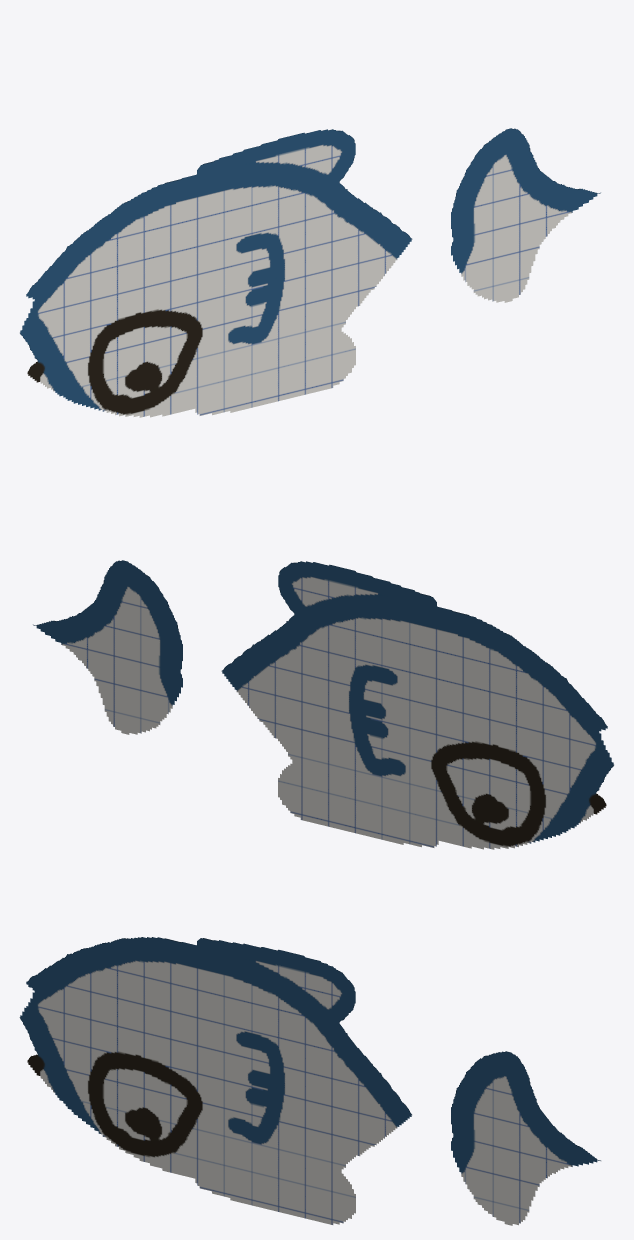
File: barry.glb
3 views of the same model, one above another, from view 1: azimuth 30°, elevation 25°; view 2: azimuth 150°, elevation 25°; view 3: azimuth 330°, elevation 25° (orthographic).
Visible parts, largest first — view 1: cutout; view 2: cutout; view 3: cutout.
Part boxes in pixels (x1=…): cutout: x1=20, y1=128, x2=600, y2=417; cutout: x1=33, y1=560, x2=613, y2=849; cutout: x1=19, y1=937, x2=600, y2=1225.
Size of the model in its own units: 4.81 by 2.58 by 0.
1 material, 1 textured.
